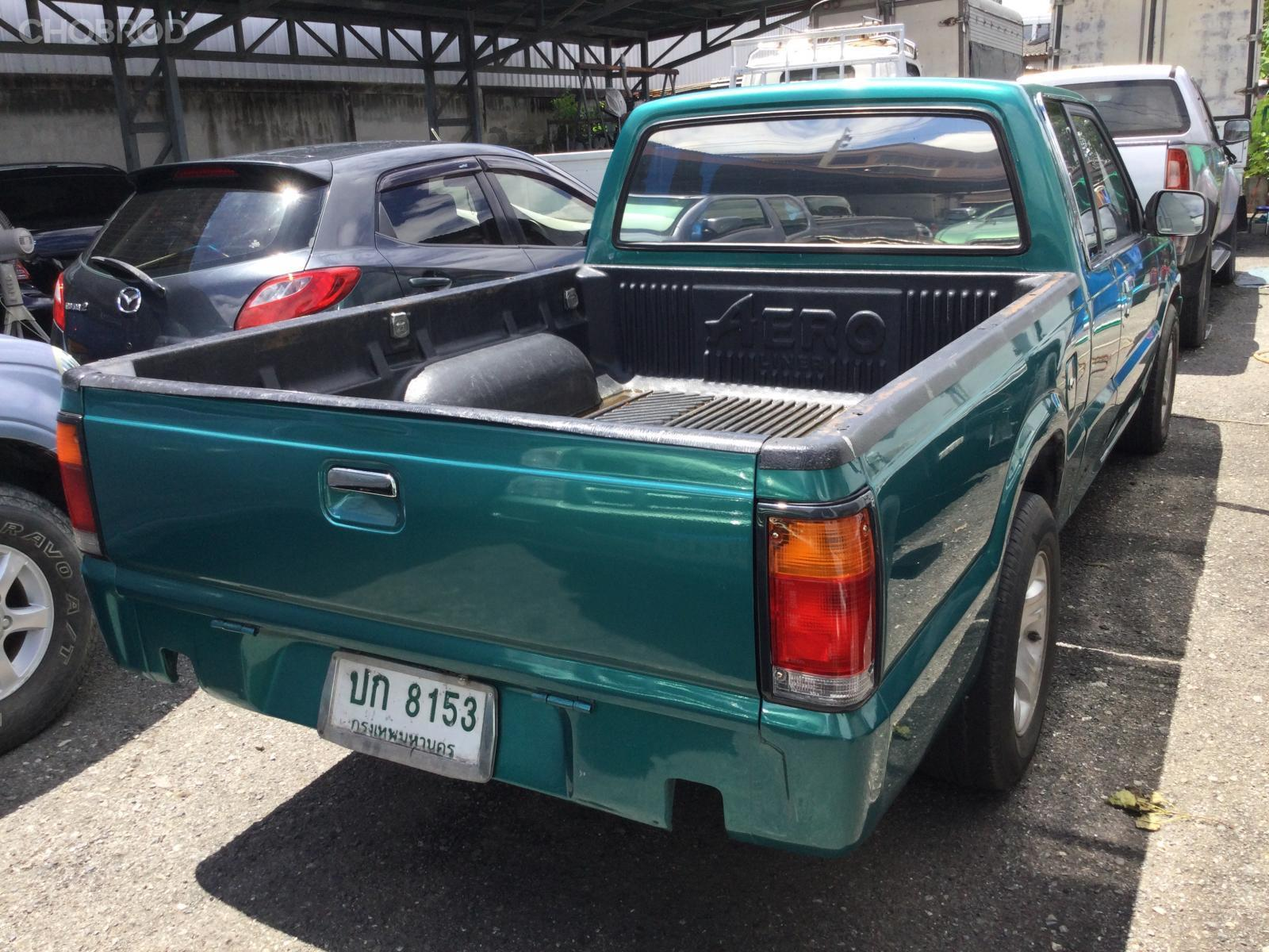license-plate: (305, 635, 507, 795)
